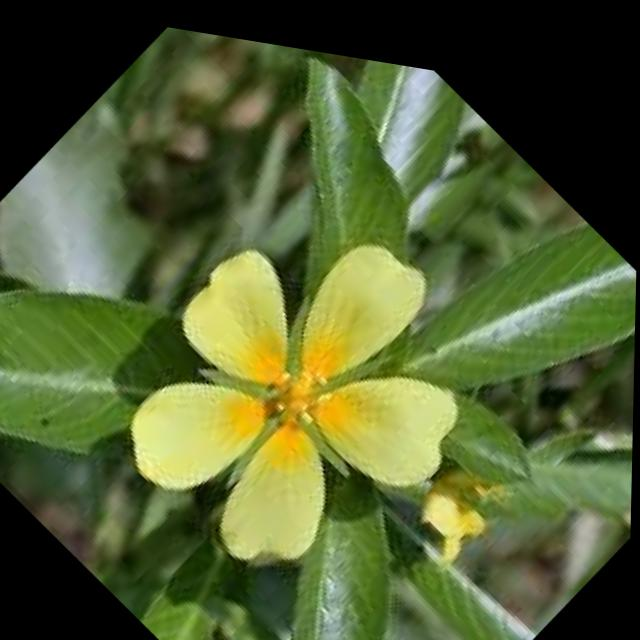Flower: (76, 116, 535, 636)
